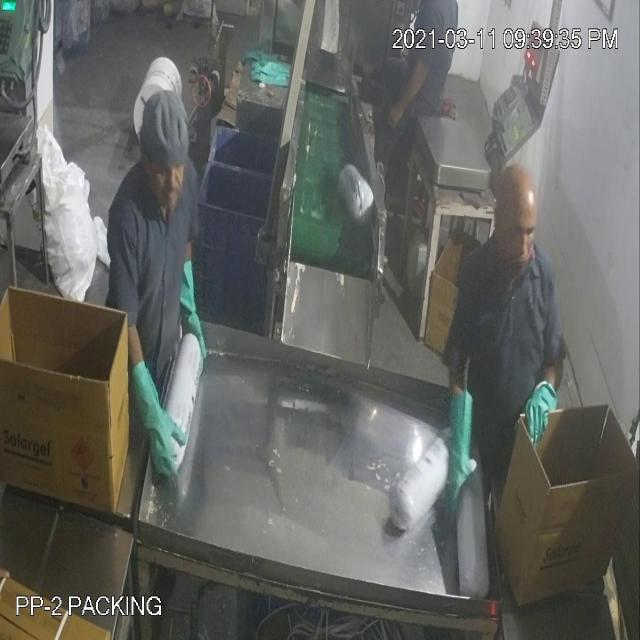No_Gloves: (50, 72, 541, 460)
